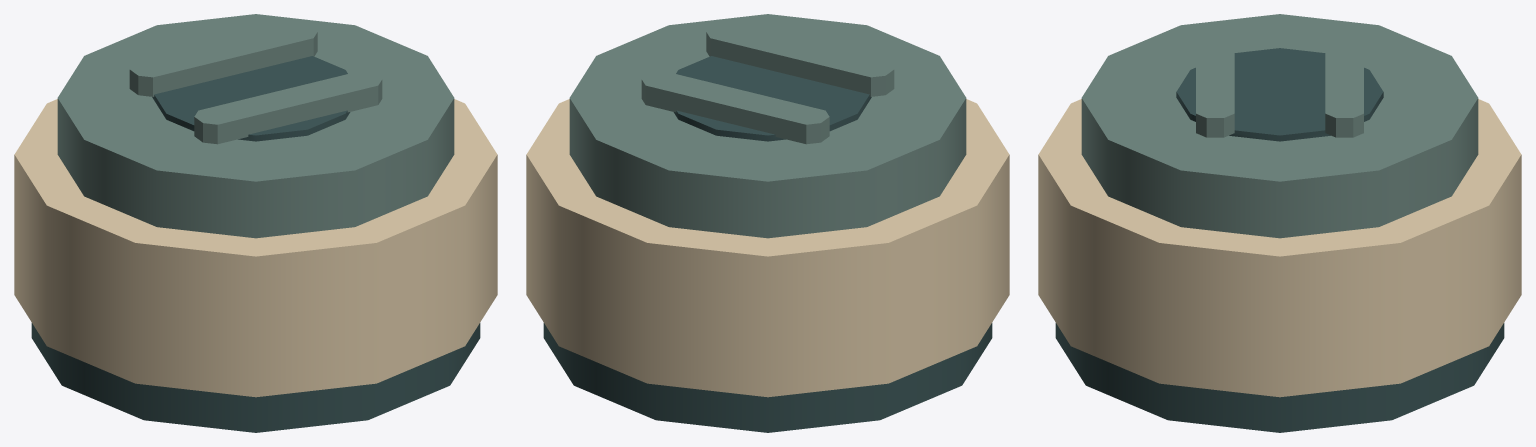
Rendered from steam-vent.glb.
The picture shows the model from 3 angles, left to right: view 1: azimuth 30°, elevation 25°; view 2: azimuth 150°, elevation 25°; view 3: azimuth 270°, elevation 25°; orthographic projection.
Visible parts, largest first — view 1: steam-vent; view 2: steam-vent; view 3: steam-vent.
Part boxes in pixels (x1,y1,x2,y2): steam-vent: (14, 14, 497, 432); steam-vent: (526, 14, 1009, 432); steam-vent: (1038, 14, 1521, 432).
Bounding box in the file's own units: 1.12 × 0.675 × 1.12.
1 material, 1 textured.
